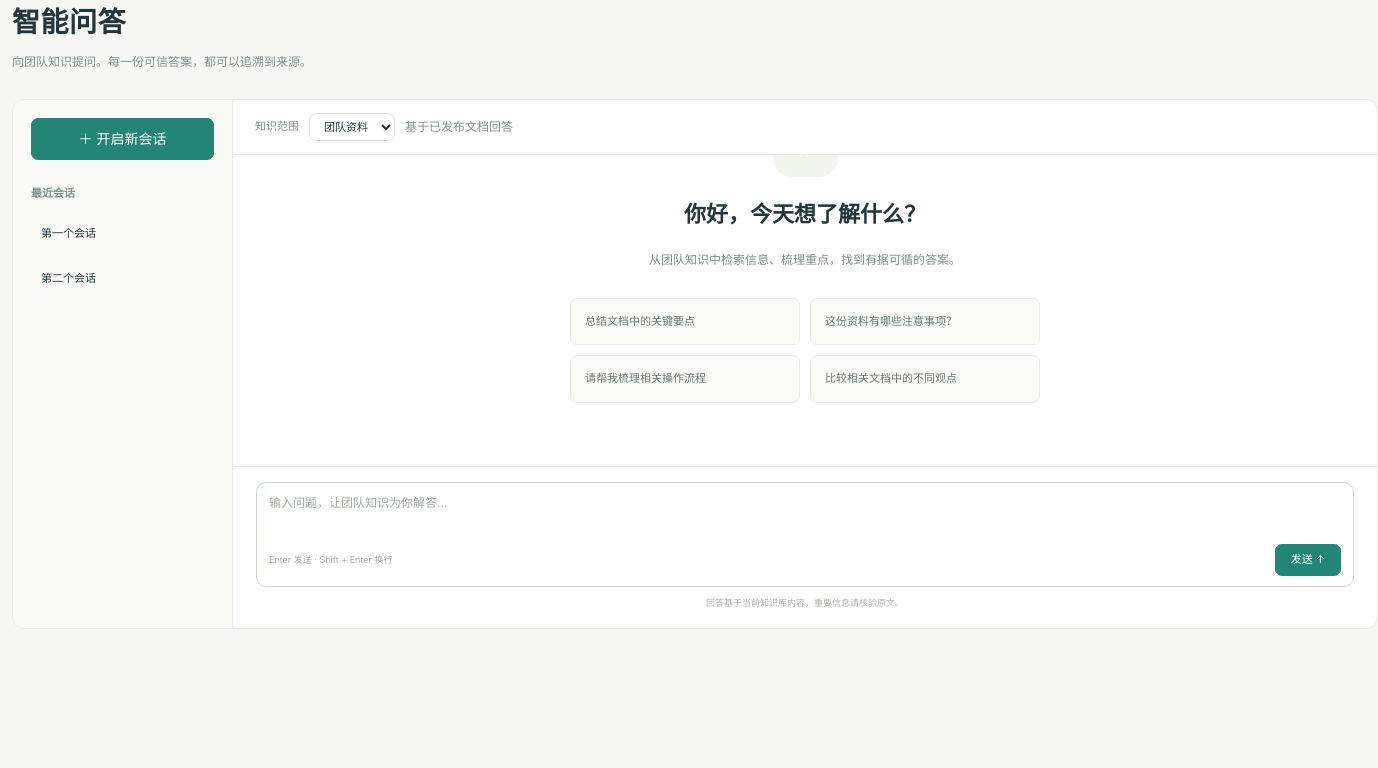
Scenario: Chat › submits a question once and carries its knowledge base into the run
The width and height of the screenshot is (1378, 768).
(page scrolled)
Type "如何操作？" into the text box labelled "输入问题" at (805, 515), box [269,493,1341,538]
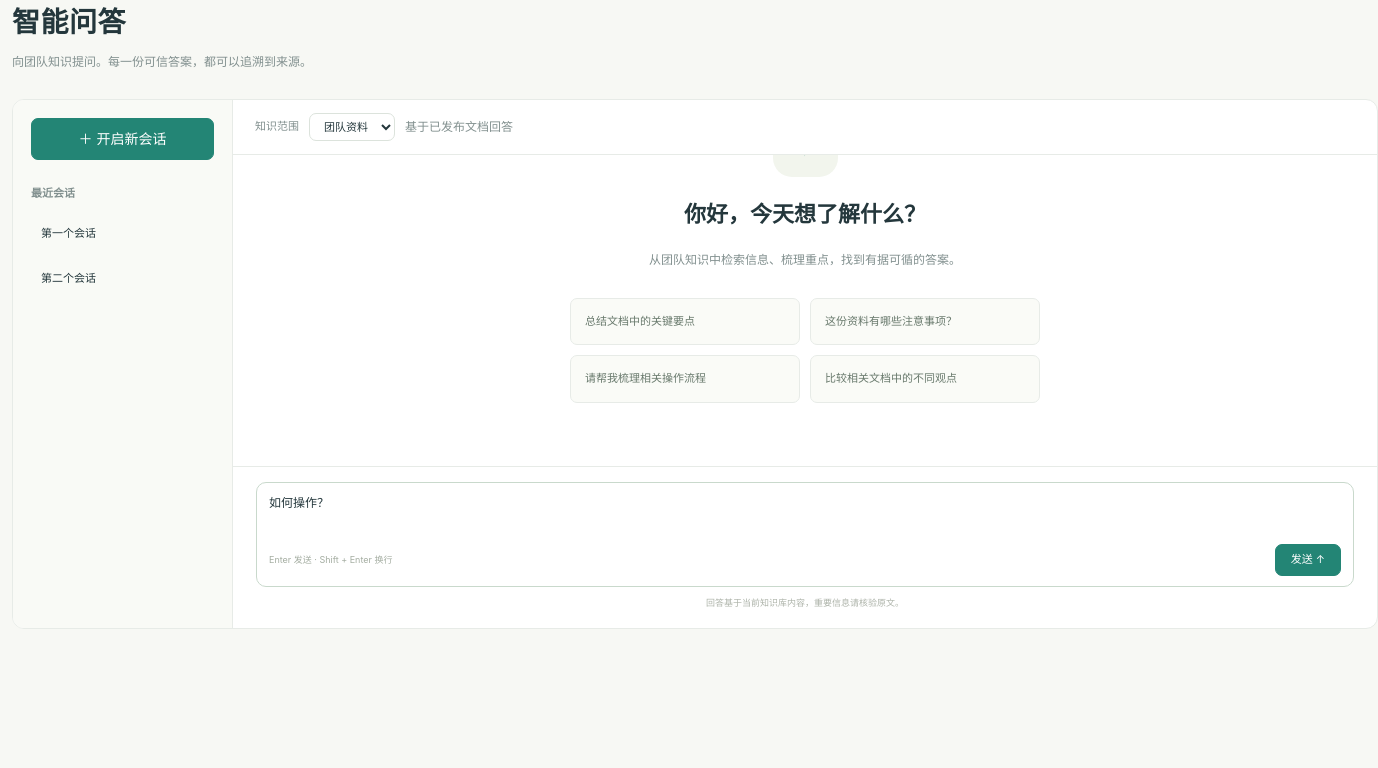
Click the button "发送 ↑" at (1308, 560), box [1275,544,1341,576]
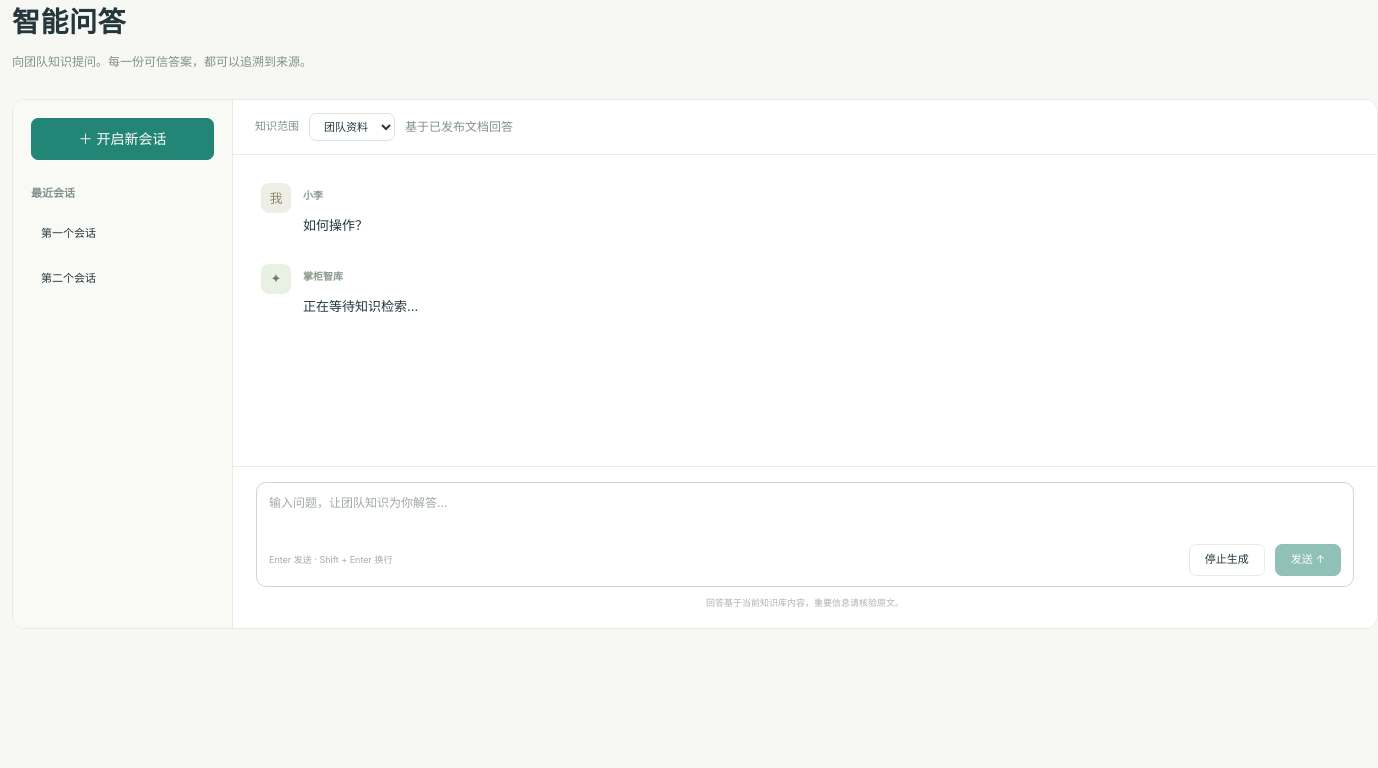
Expected: the text "如何操作？" is shown, [303,217,368,233]
Expected: the button "停止生成" is shown, [1189,544,1265,576]
